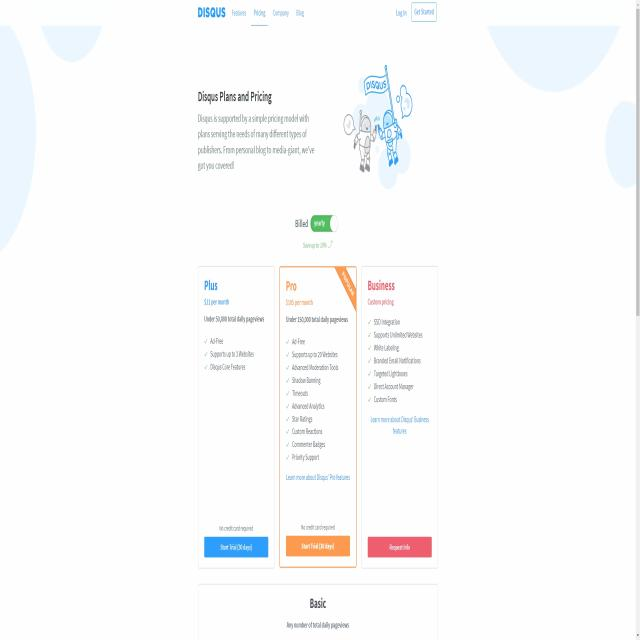menu-bar: (394, 2, 438, 25)
tab-bar: (194, 2, 309, 25)
